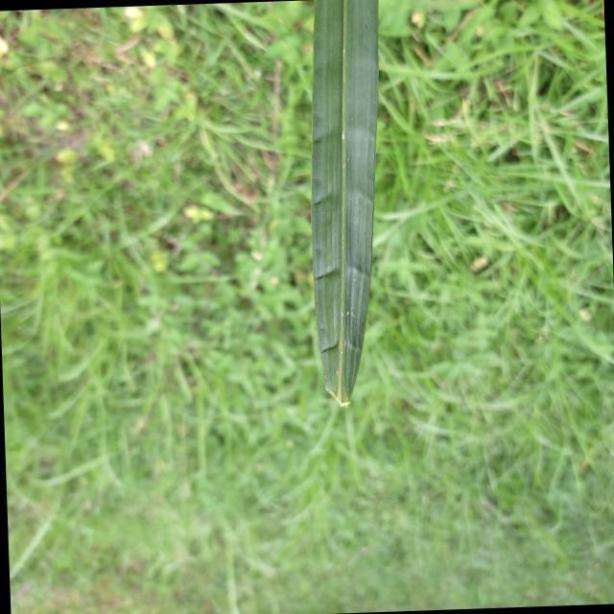Boron: (312, 0, 381, 411)
